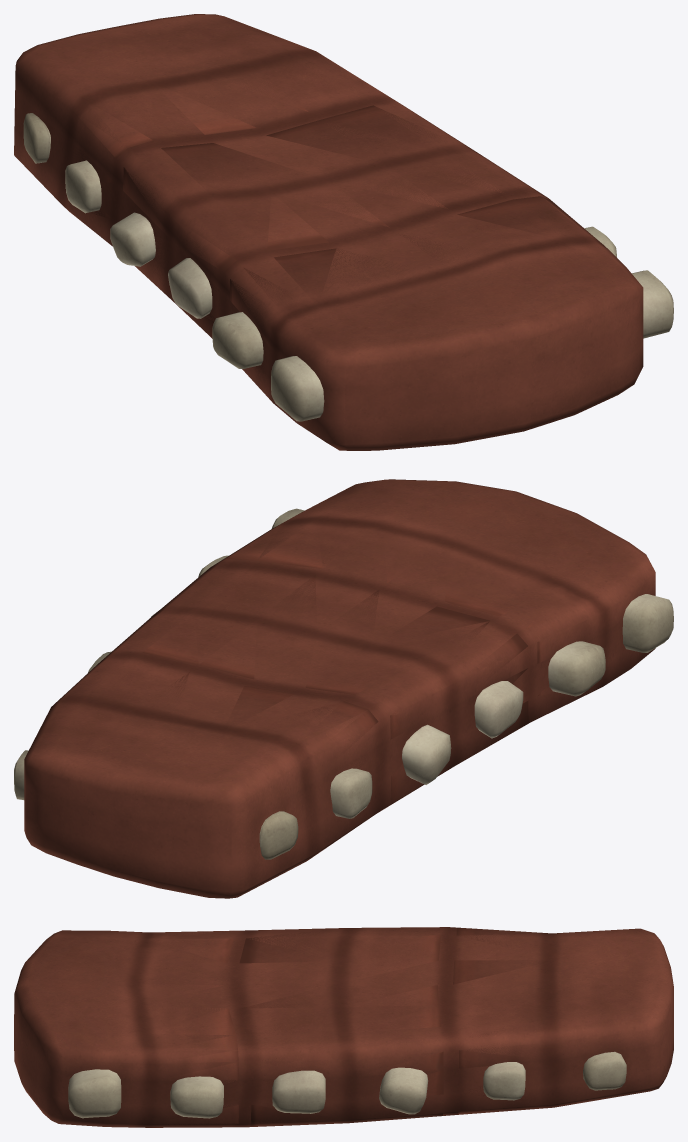
Rendered from costillar completo.fbx.
The picture shows the model from 3 angles, top to bottom: view 1: azimuth 30°, elevation 25°; view 2: azimuth 150°, elevation 25°; view 3: azimuth 270°, elevation 25°; orthographic projection. The views are drawn at different scales.
Parts seen in each view (by area): view 1: Cube, Cube.006, Cube.004, Cube.007; view 2: Cube, Cube.006, Cube.004, Cube.007; view 3: Cube, Cube.006, Cube.004, Cube.007.
Part boxes in pixels (x1,y1,x2,y2): Cube: (14, 14, 673, 450); Cube.006: (123, 105, 503, 338); Cube.004: (230, 196, 603, 400); Cube.007: (62, 51, 379, 242); Cube: (14, 479, 673, 898); Cube.006: (116, 568, 528, 803); Cube.004: (215, 519, 602, 695); Cube.007: (63, 672, 378, 859); Cube: (14, 927, 673, 1127); Cube.006: (239, 927, 443, 1126); Cube.004: (121, 930, 238, 1127); Cube.007: (453, 927, 556, 1114).
Size of the model in its own units: 174 by 53.71 by 313.
